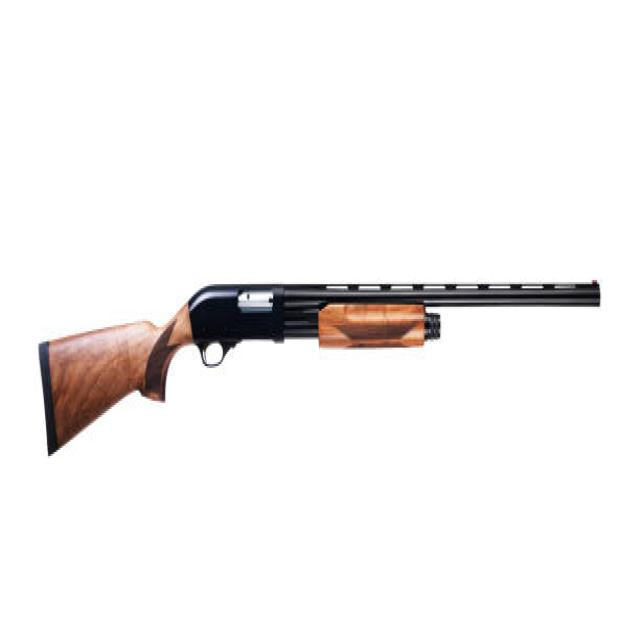rifle: (36, 270, 607, 458)
